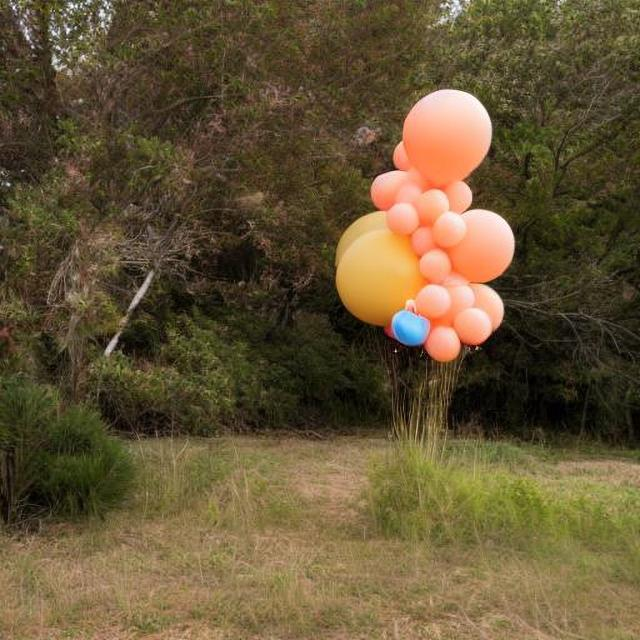balloon: (333, 80, 515, 362)
